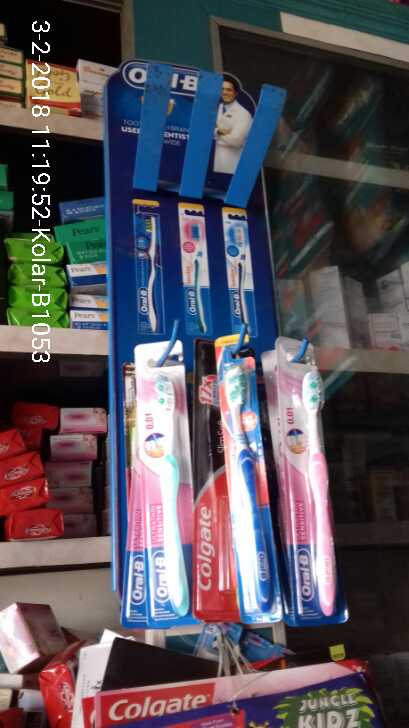oralb: (130, 363, 188, 619), (293, 363, 341, 613), (222, 375, 259, 640)
